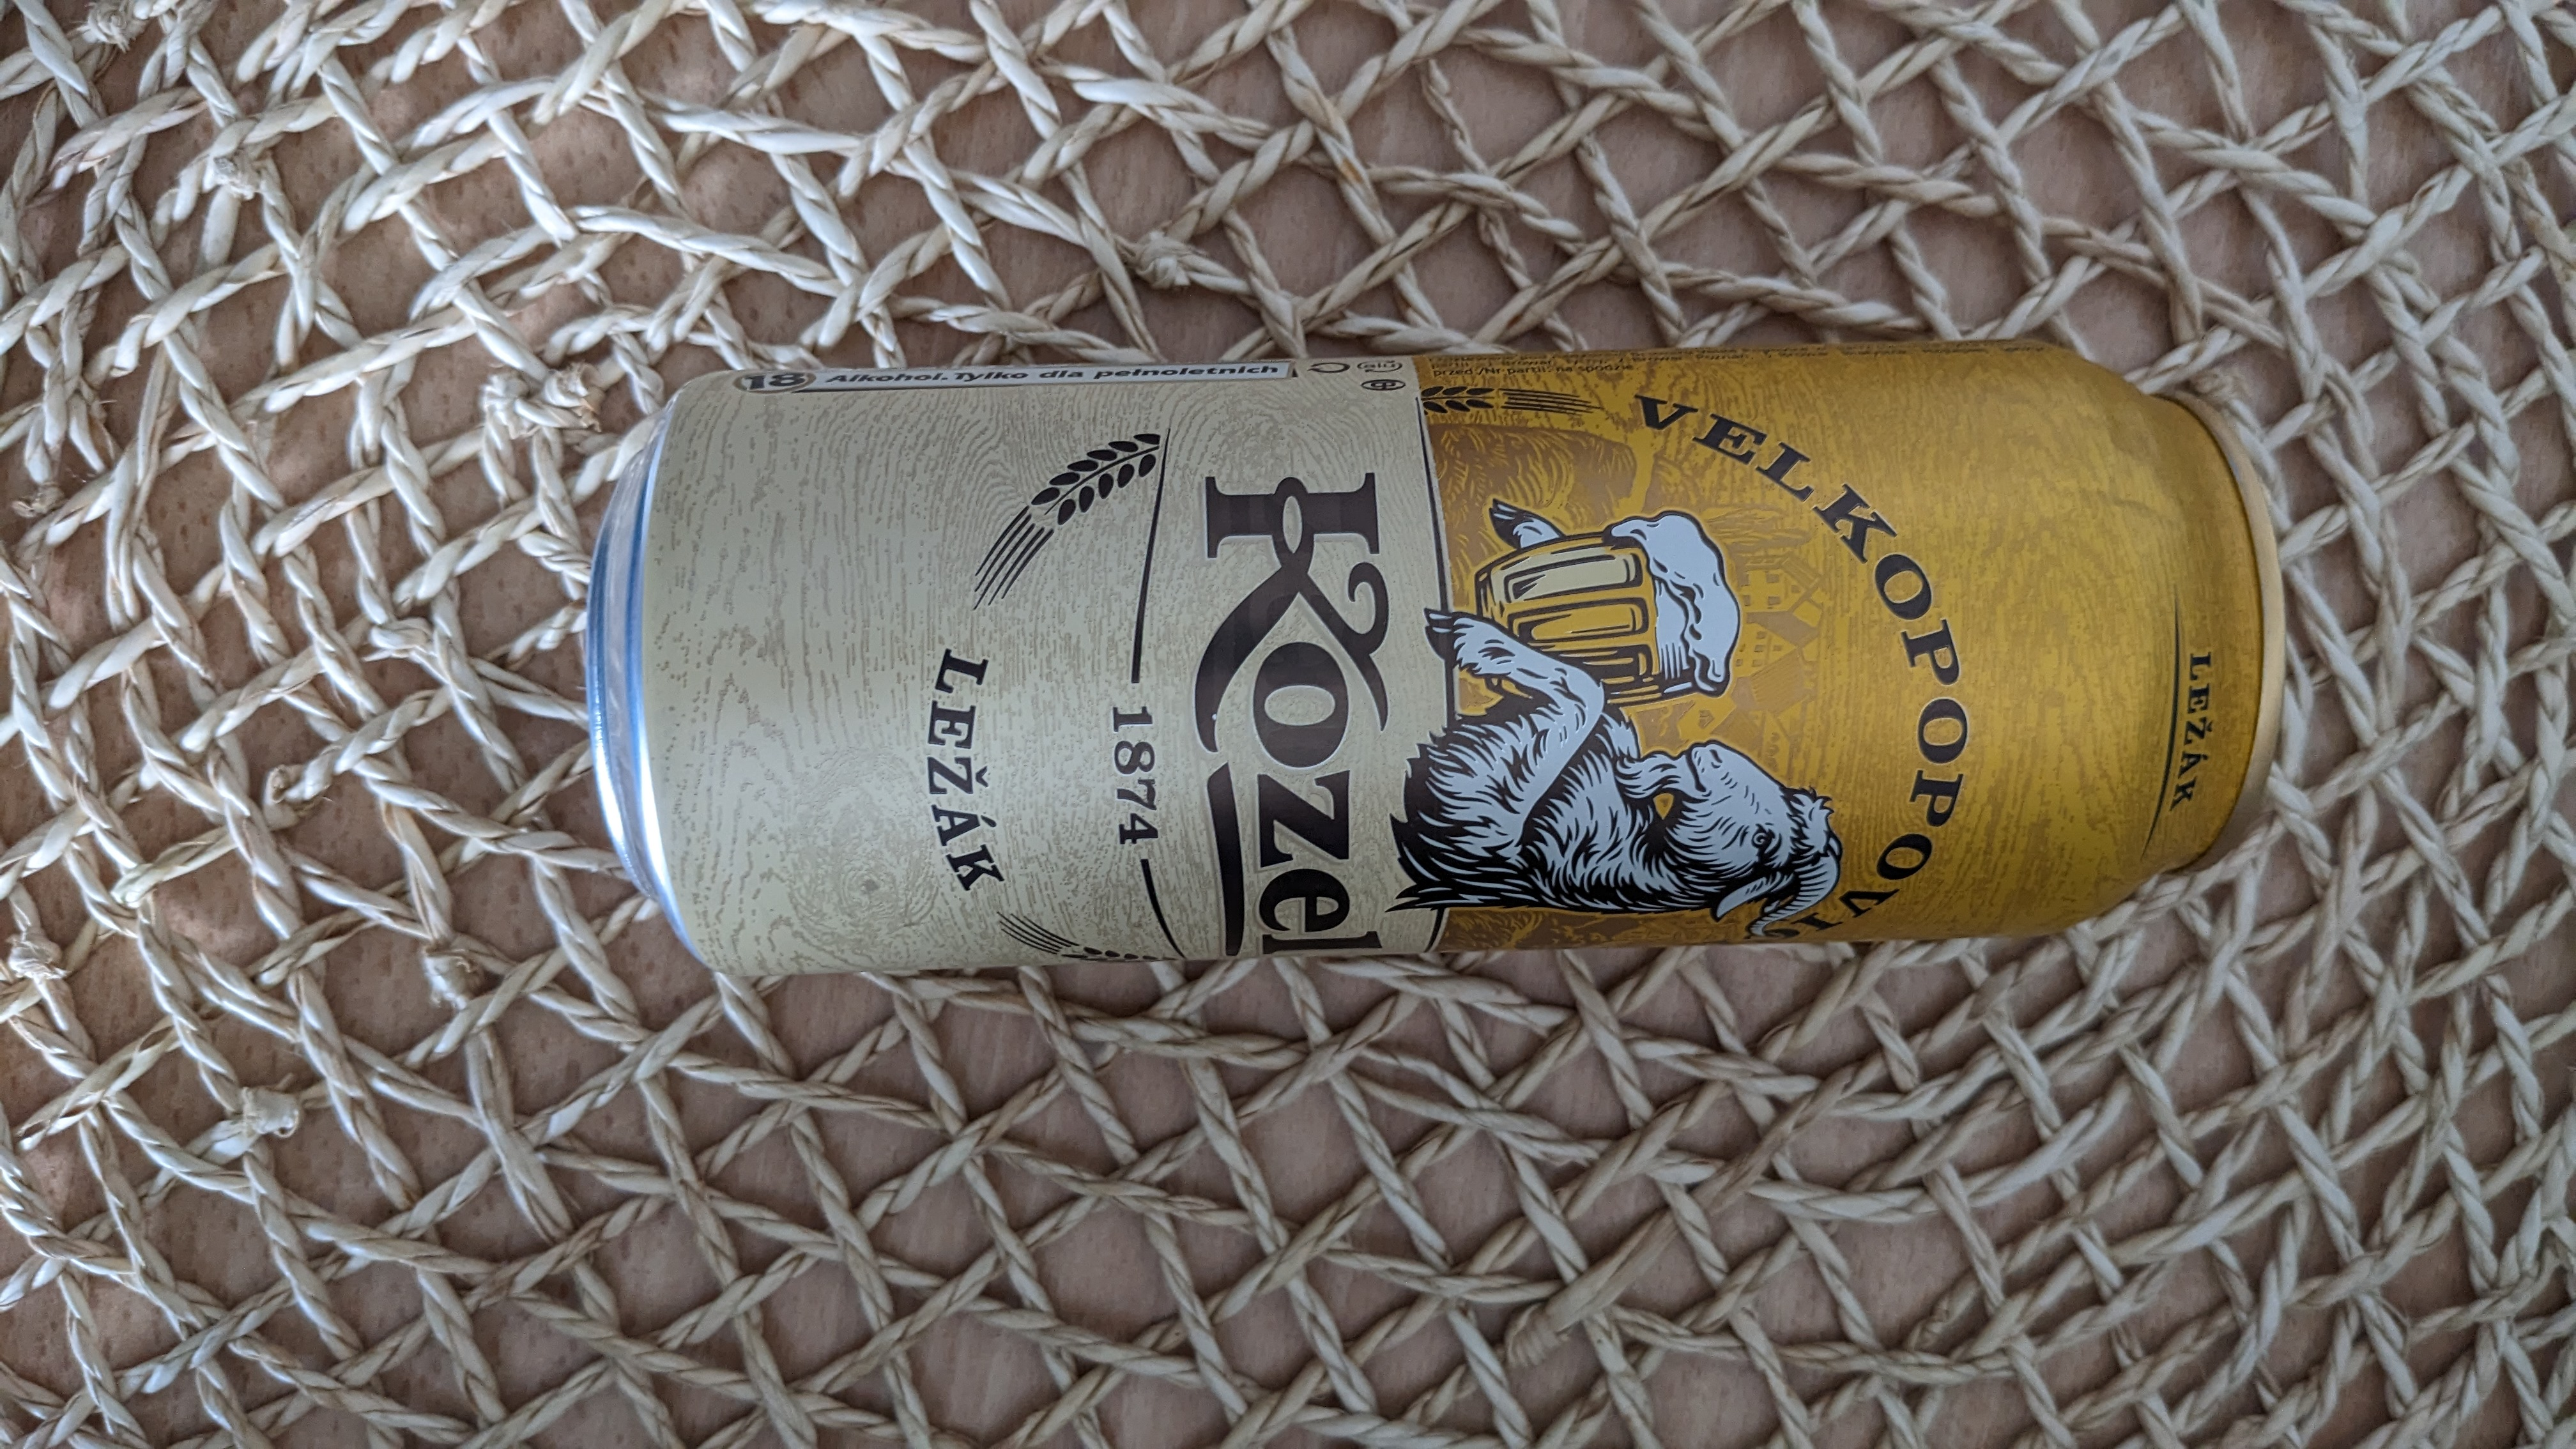kozel: (557, 310, 2341, 1007)
